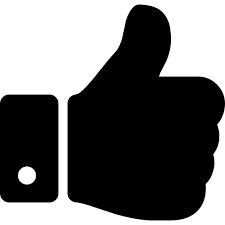thumbs_up: (2, 2, 220, 219)
